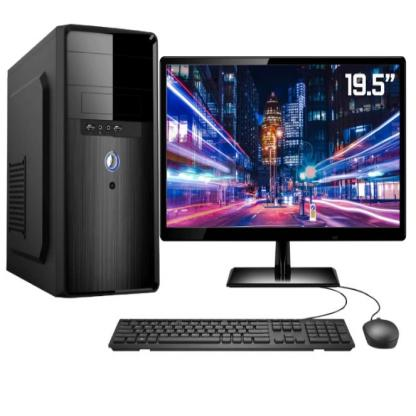DESKTOP: (2, 27, 416, 392)
